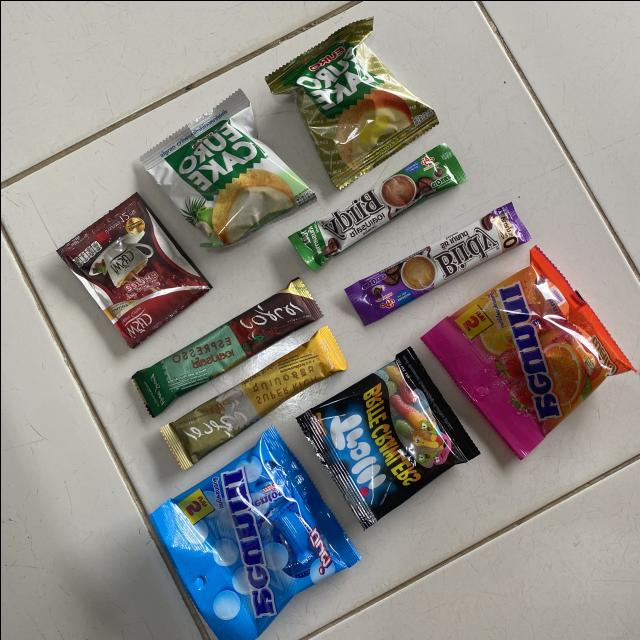plastik: (422, 245, 634, 458), (149, 427, 359, 640), (296, 347, 479, 527), (265, 17, 437, 188), (140, 89, 315, 247), (160, 326, 346, 468), (131, 278, 321, 415), (57, 192, 210, 347), (345, 202, 530, 324), (289, 142, 466, 269)
